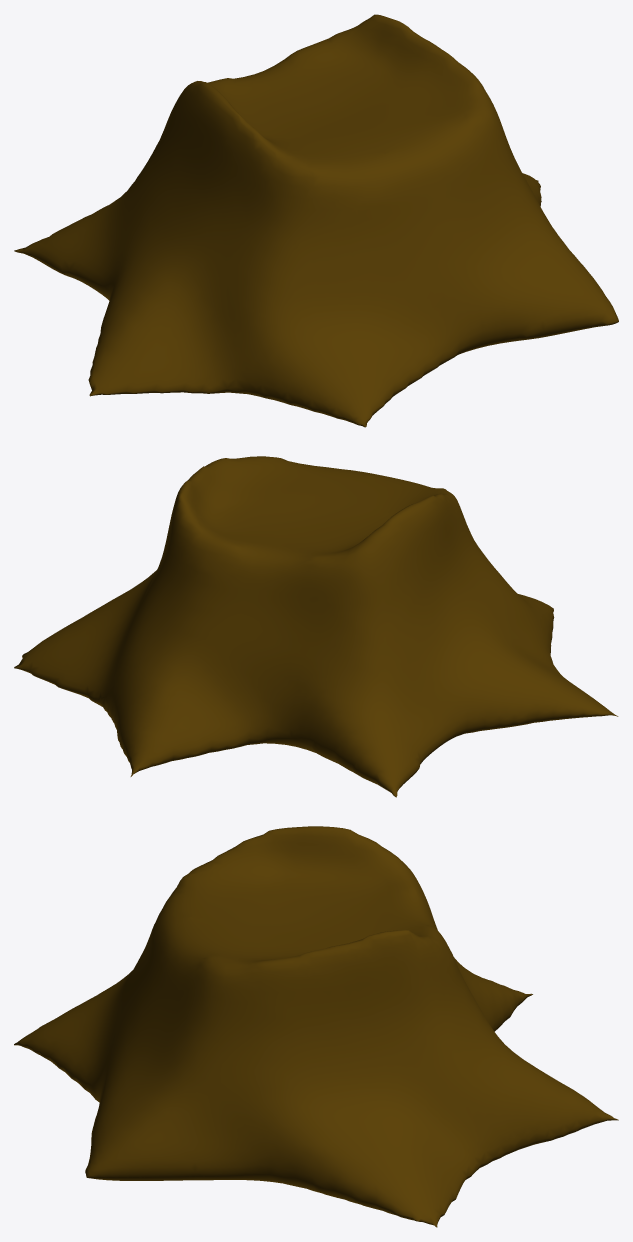
The model's file is Stump2.glb.
3 renders of one model, top to bottom at view 1: azimuth 30°, elevation 25°; view 2: azimuth 150°, elevation 25°; view 3: azimuth 270°, elevation 25°, orthographic. The views are drawn at different scales.
Parts seen in each view (by area): view 1: Stump2_wood; view 2: Stump2_wood; view 3: Stump2_wood.
Part boxes in pixels (x1,y1,x2,y2): Stump2_wood: (14, 14, 618, 427); Stump2_wood: (14, 456, 618, 797); Stump2_wood: (14, 826, 618, 1227).
Bounding box in the file's own units: 2.6 × 1.02 × 2.5.
